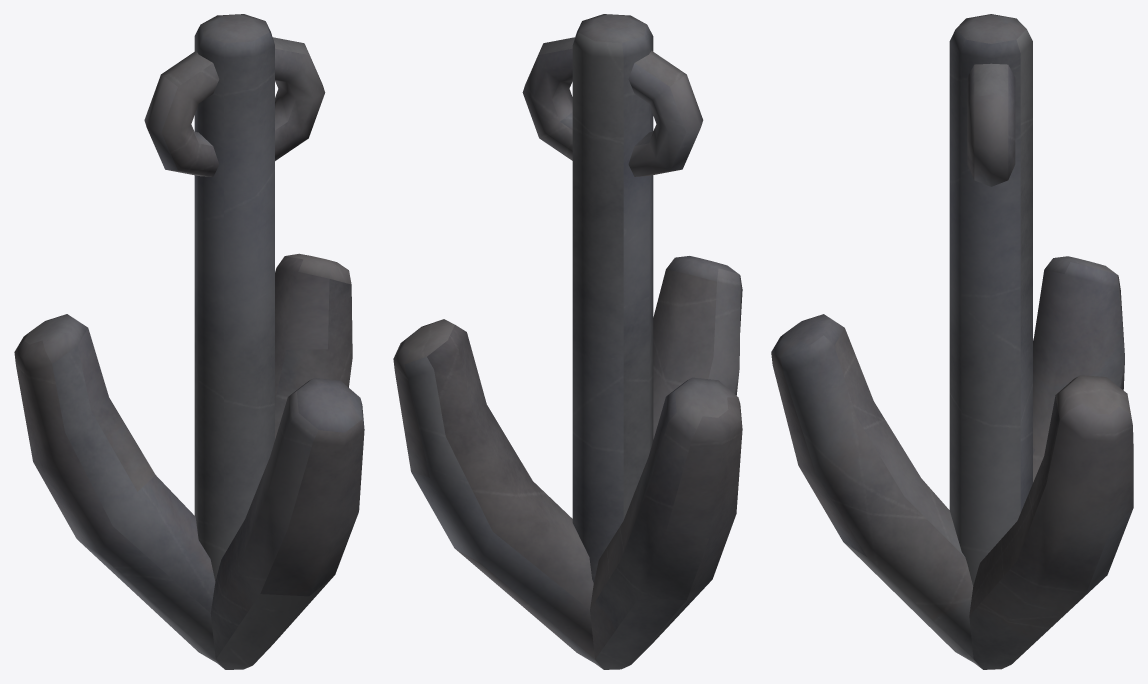
File: Grappling_Hook.fbx
3 renders of one model, left to right at view 1: azimuth 30°, elevation 25°; view 2: azimuth 150°, elevation 25°; view 3: azimuth 270°, elevation 25°, orthographic.
Visible parts, largest first — view 1: Grappling_Hook; view 2: Grappling_Hook; view 3: Grappling_Hook.
Part boxes in pixels (x1,y1,x2,y2): Grappling_Hook: [14, 14, 364, 669]; Grappling_Hook: [393, 14, 742, 669]; Grappling_Hook: [771, 14, 1133, 669].
Bounding box in the file's own units: 4 × 7.34 × 3.78.
